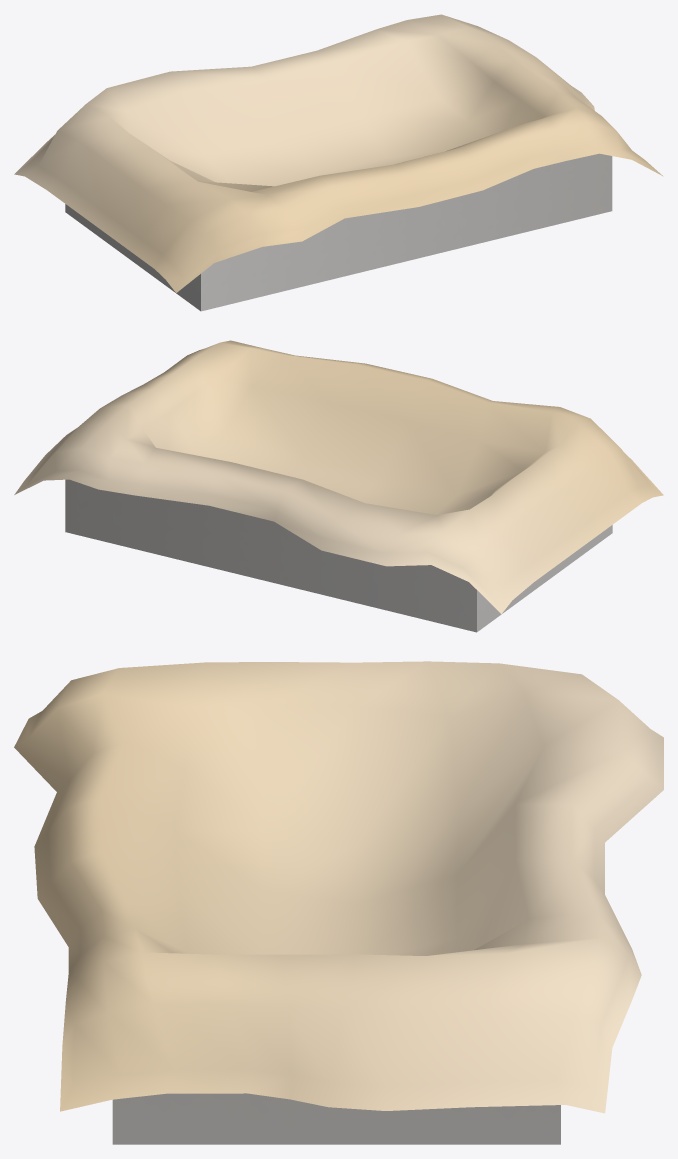
Rendered from ENV_Chips_Box.fbx.
The picture shows the model from 3 angles, top to bottom: view 1: azimuth 30°, elevation 25°; view 2: azimuth 150°, elevation 25°; view 3: azimuth 270°, elevation 25°; orthographic projection. The views are drawn at different scales.
Visible parts, largest first — view 1: ENV_Chips_Box; view 2: ENV_Chips_Box; view 3: ENV_Chips_Box.
Boxes of the visible parts, x1,y1,x2,y2 form: ENV_Chips_Box: [14, 14, 663, 311]; ENV_Chips_Box: [14, 340, 663, 632]; ENV_Chips_Box: [14, 661, 663, 1144].
Size of the model in its own units: 33.21 by 6.52 by 22.57.
